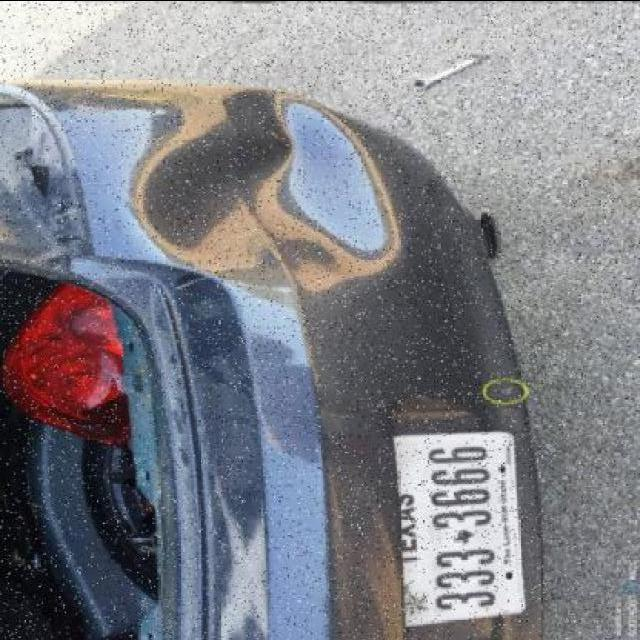rear-bumper-dent: (109, 78, 459, 635)
